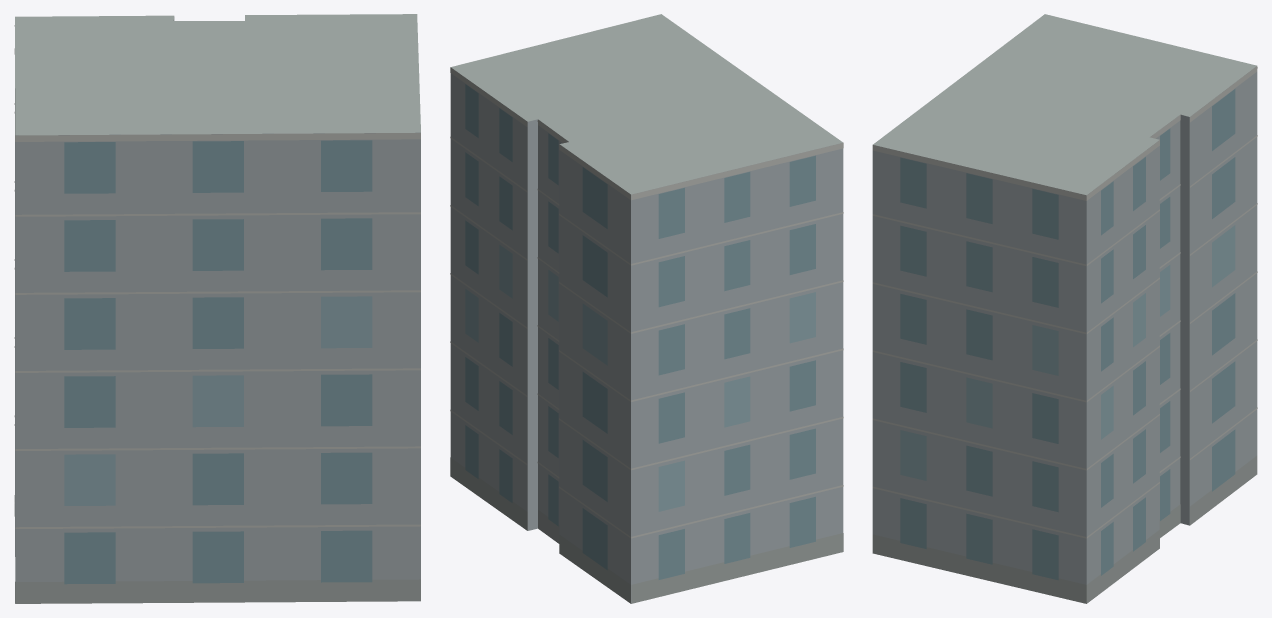
The model's file is survey-upis-32664249.glb.
The picture shows the model from 3 angles, left to right: view 1: azimuth 30°, elevation 25°; view 2: azimuth 150°, elevation 25°; view 3: azimuth 270°, elevation 25°; orthographic projection. The views are drawn at different scales.
Visible parts, largest first — view 1: survey-upis-32664249.tmp; view 2: survey-upis-32664249.tmp; view 3: survey-upis-32664249.tmp.
Part boxes in pixels (<box>): survey-upis-32664249.tmp: <box>14,14,420,603</box>; survey-upis-32664249.tmp: <box>450,14,843,603</box>; survey-upis-32664249.tmp: <box>872,14,1257,603</box>.
Bounding box in the file's own units: 16.48 × 17.3 × 14.78.
